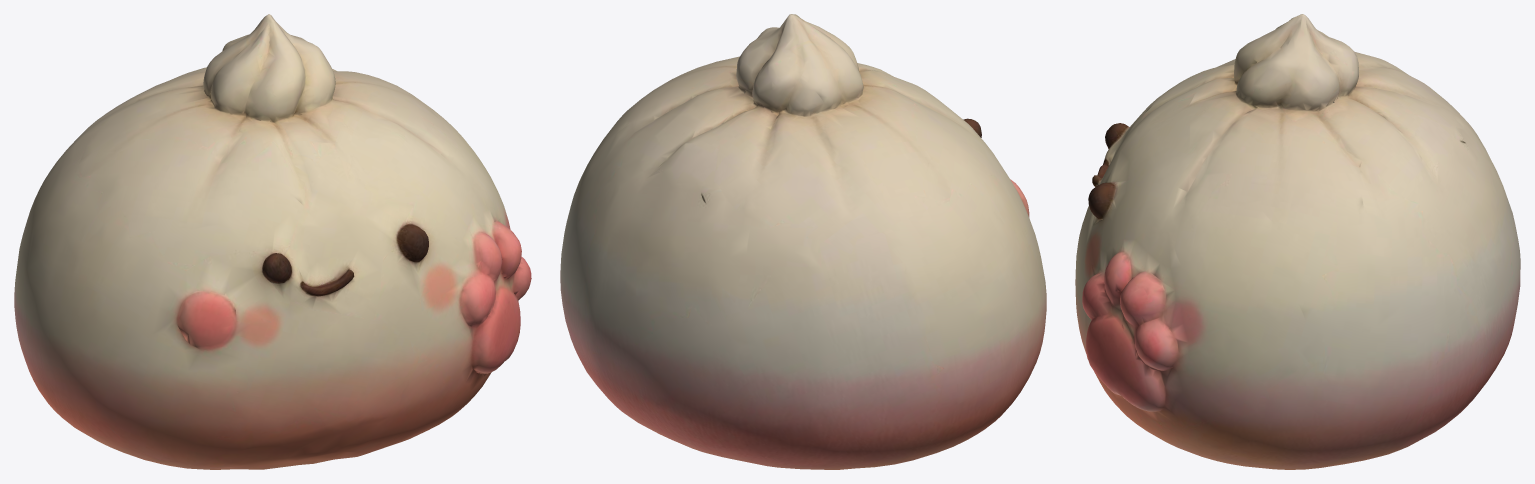
File: snack-mascot.glb
The picture shows the model from 3 angles, left to right: view 1: azimuth 30°, elevation 25°; view 2: azimuth 150°, elevation 25°; view 3: azimuth 270°, elevation 25°; orthographic projection.
Parts seen in each view (by area): view 1: Mesh_0; view 2: Mesh_0; view 3: Mesh_0.
Part boxes in pixels (box(x1,y1,x2,y2)): Mesh_0: box(14, 14, 531, 469); Mesh_0: box(560, 14, 1046, 469); Mesh_0: box(1075, 14, 1520, 469).
Bounding box in the file's own units: 2 × 1.75 × 1.78.
1 material, 1 textured.
